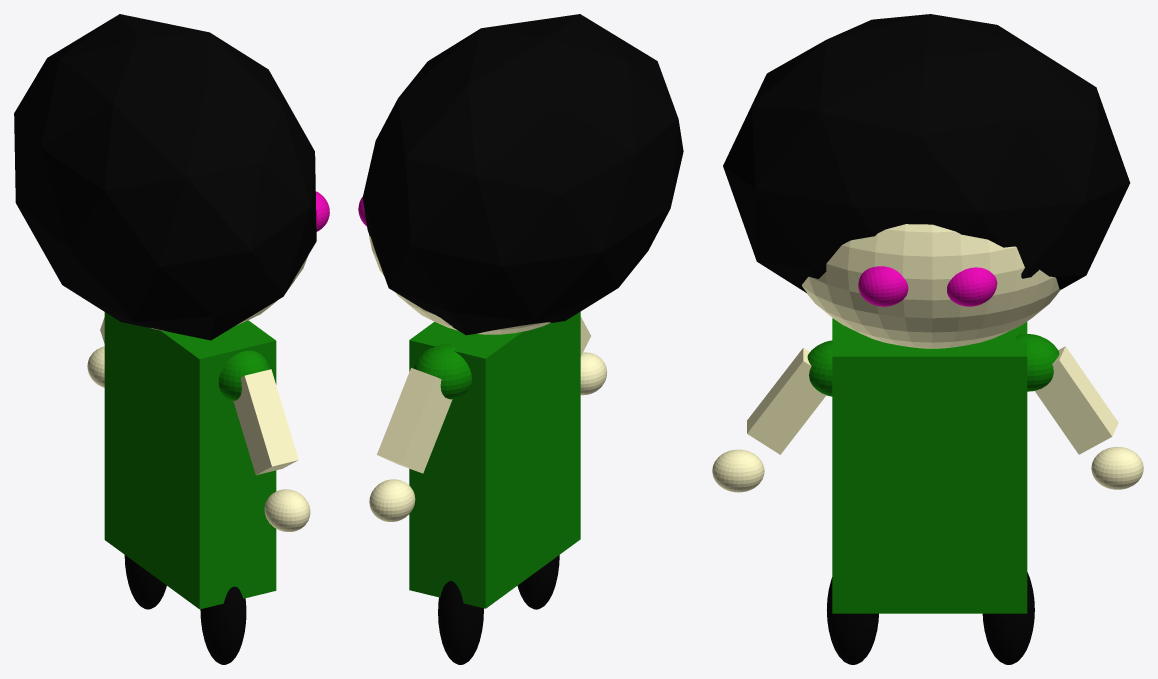
File: Character_1.glb
3 views of the same model, side by side, from view 1: azimuth 30°, elevation 25°; view 2: azimuth 150°, elevation 25°; view 3: azimuth 270°, elevation 25° (orthographic). The views are drawn at different scales.
Visible parts, largest first — view 1: Icosphere, Cube, Cube.001, Sphere.002, Sphere.007, Sphere.001, Sphere.003, Sphere.008; view 2: Icosphere, Cube, Cube.002, Sphere.003, Sphere.004, Sphere.008, Sphere.002, Sphere.007, Sphere; view 3: Icosphere, Cube, Sphere, Cube.002, Cube.001, Sphere.003, Sphere.002, Sphere.007, Sphere.008, Sphere.005, Sphere.006, Sphere.004 (+1 smaller).
Part boxes in pixels (box(x1,y1,x2,y2)): Icosphere: box(14, 14, 316, 340); Cube: box(104, 312, 276, 609); Cube.001: box(233, 369, 298, 475); Sphere.002: box(200, 586, 246, 664); Sphere.007: box(264, 489, 310, 531); Sphere.001: box(218, 350, 270, 400); Sphere.003: box(124, 555, 166, 609); Sphere.008: box(87, 346, 104, 387); Icosphere: box(362, 14, 683, 335); Cube: box(409, 311, 580, 608); Cube.002: box(377, 368, 452, 473); Sphere.003: box(438, 581, 483, 664); Sphere.004: box(414, 344, 471, 399); Sphere.008: box(369, 479, 415, 521); Sphere.002: box(517, 555, 559, 609); Sphere.007: box(580, 352, 607, 395); Sphere: box(369, 234, 550, 334); Icosphere: box(723, 14, 1130, 292); Cube: box(832, 318, 1027, 613); Sphere: box(802, 224, 1060, 348); Cube.002: box(1035, 346, 1118, 454); Cube.001: box(747, 348, 826, 454); Sphere.003: box(982, 572, 1034, 664); Sphere.002: box(827, 577, 878, 664); Sphere.007: box(712, 449, 764, 492); Sphere.008: box(1091, 447, 1143, 489); Sphere.005: box(858, 266, 908, 306); Sphere.006: box(947, 267, 997, 306); Sphere.004: box(1015, 334, 1059, 391).
Bounding box in the file's own units: 0.9581 × 2.13 × 1.33.
